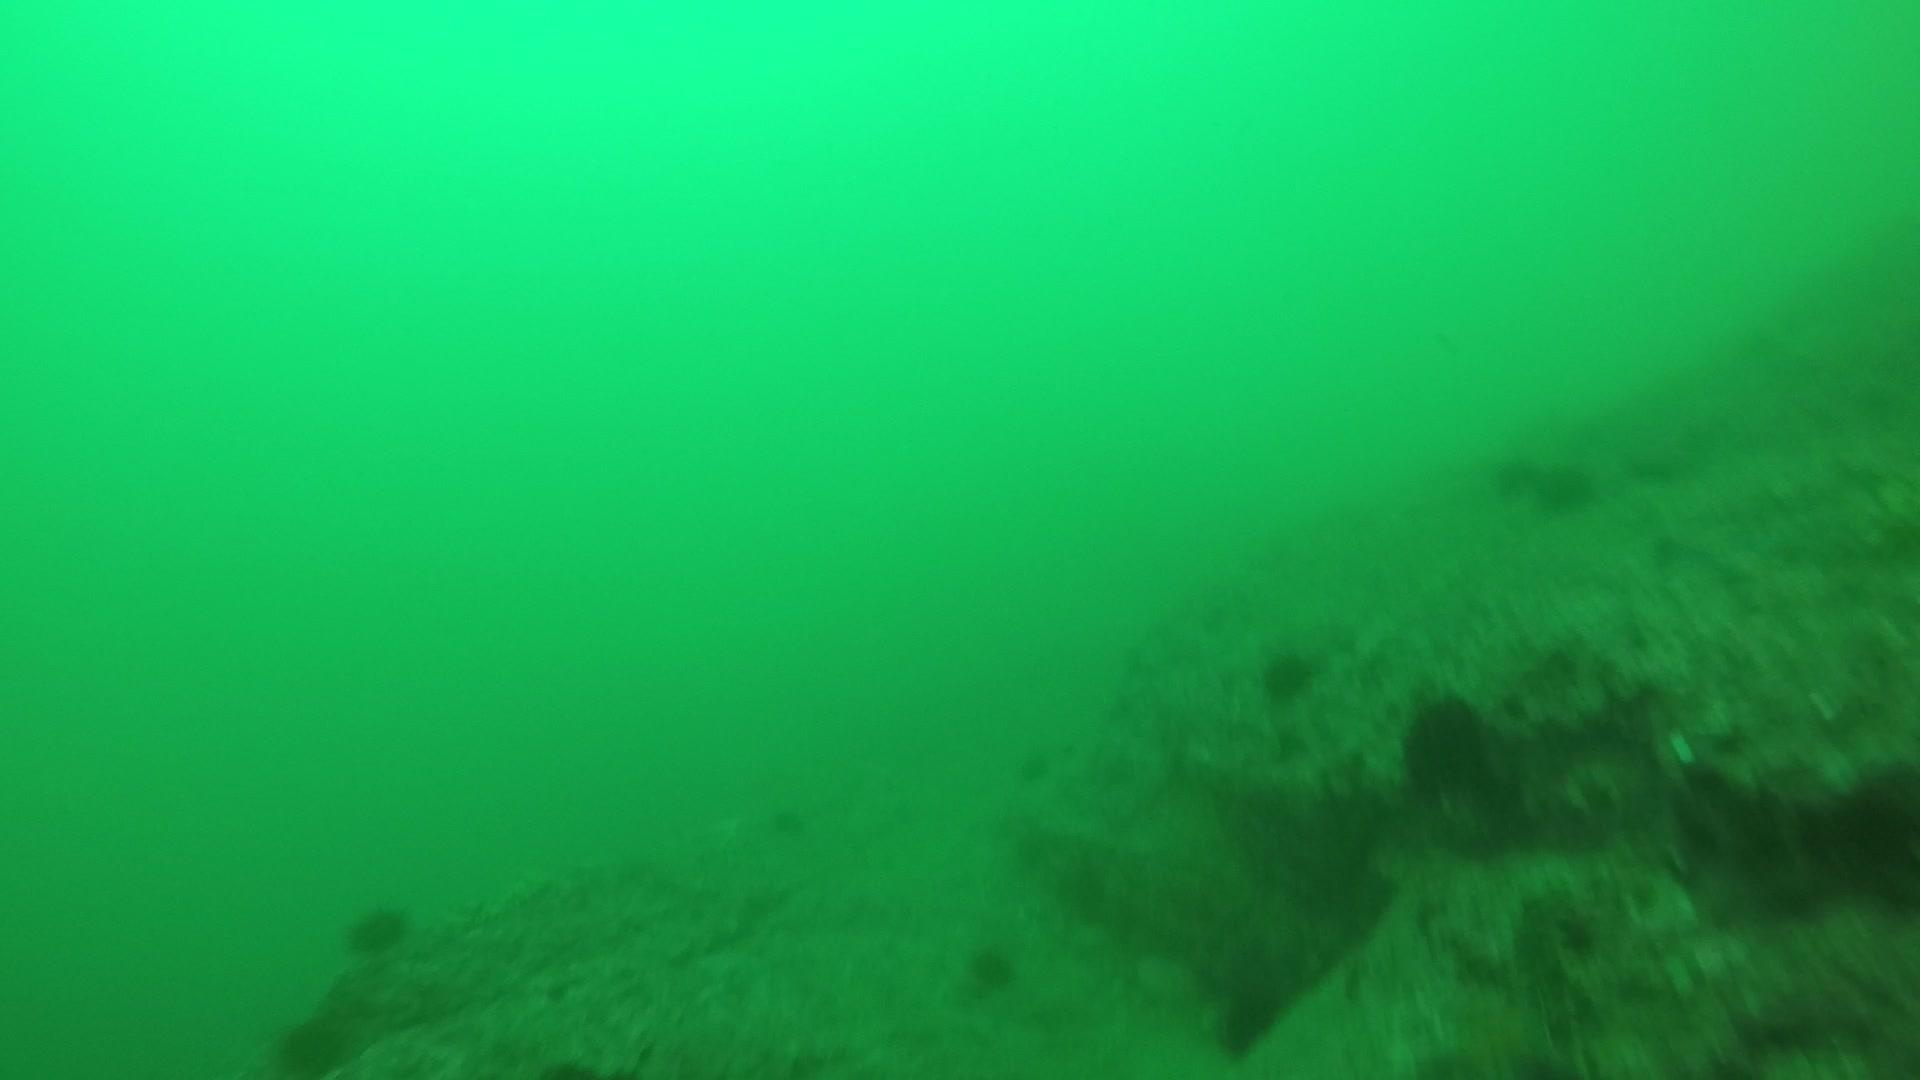echinus: (1395, 688, 1499, 800), (1494, 446, 1600, 516), (1208, 976, 1292, 1060), (266, 1011, 356, 1077), (1253, 641, 1323, 705), (342, 897, 414, 957), (957, 938, 1023, 997)
starfish: (1408, 986, 1573, 1077)
